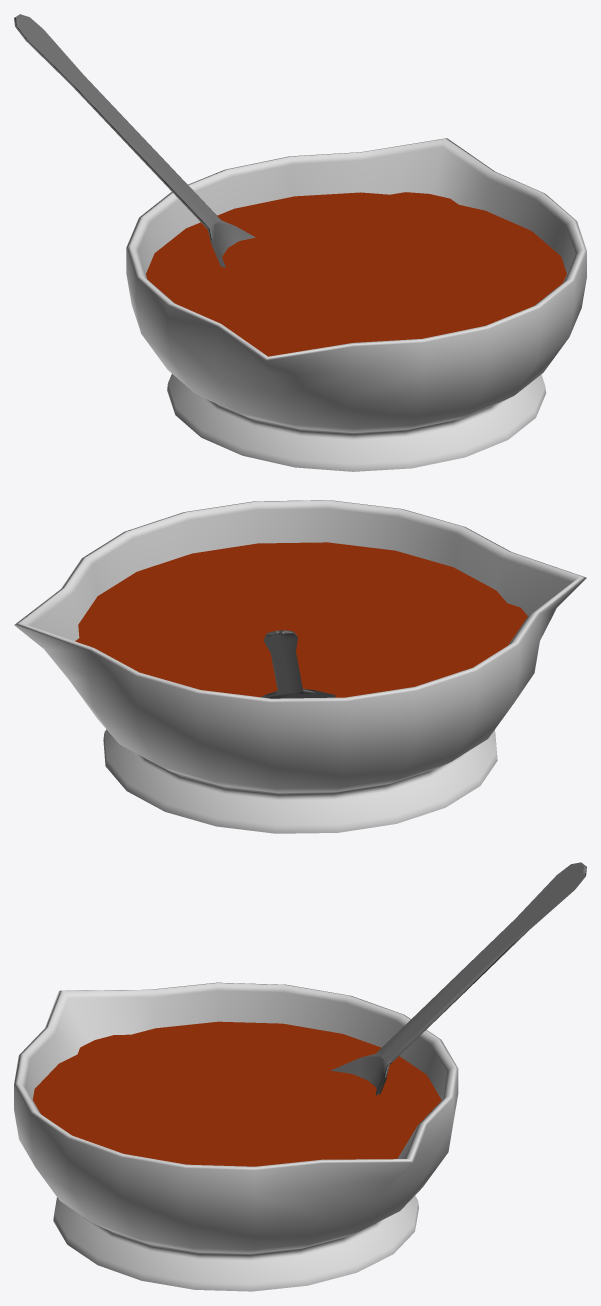
Rendered from Sauce.fbx.
3 views of the same model, one above another, from view 1: azimuth 30°, elevation 25°; view 2: azimuth 150°, elevation 25°; view 3: azimuth 270°, elevation 25° (orthographic). The views are drawn at different scales.
Visible parts, largest first — view 1: polySurface190; view 2: polySurface190; view 3: polySurface190.
Part boxes in pixels (left/top/right/bottom): polySurface190: left=14, top=14, right=586, bottom=471; polySurface190: left=14, top=500, right=586, bottom=833; polySurface190: left=14, top=862, right=586, bottom=1291.
Size of the model in its own units: 67.47 by 46.17 by 87.
